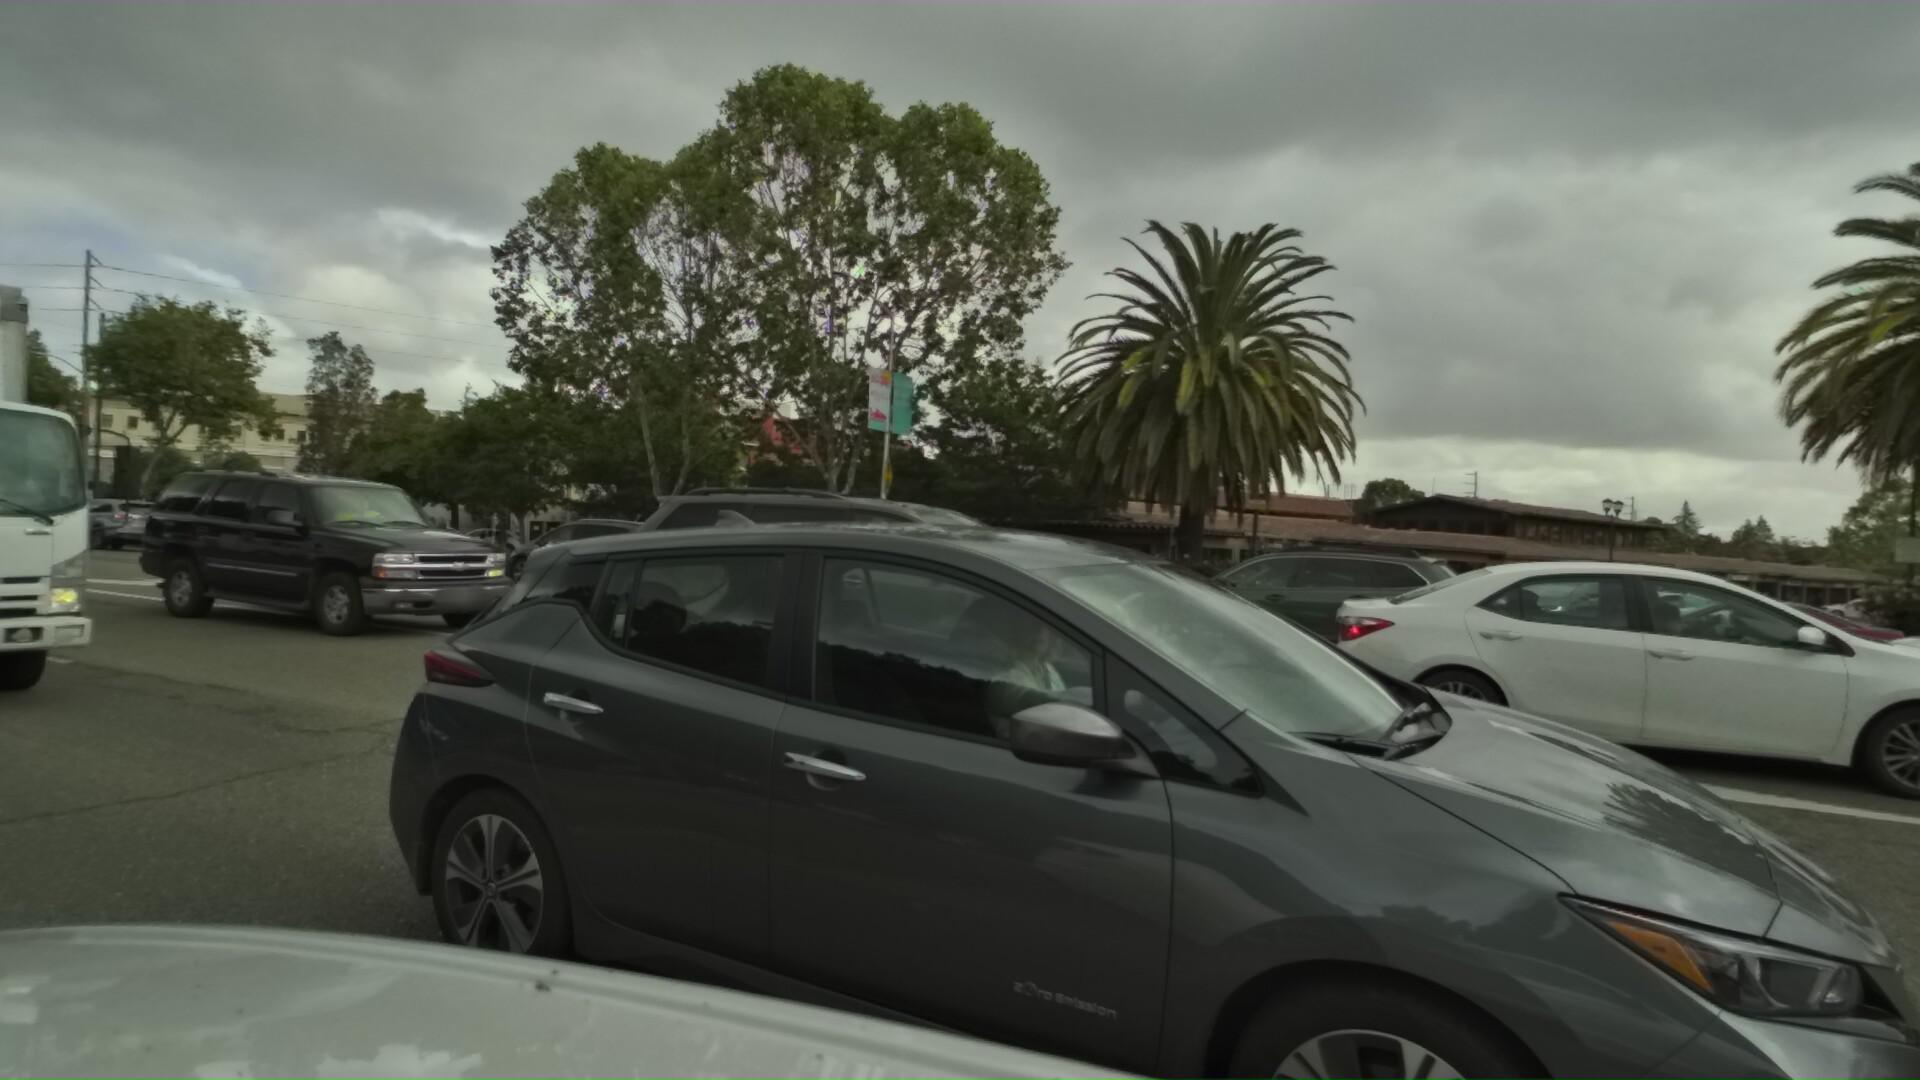car: (357, 452, 1920, 1080), (1294, 533, 1920, 822), (584, 473, 1164, 723), (115, 458, 531, 645), (1047, 531, 1433, 690), (1578, 584, 1908, 698), (1778, 585, 1920, 752), (485, 512, 700, 601), (1385, 568, 1538, 650), (38, 495, 171, 555)
truck: (0, 117, 196, 762)
